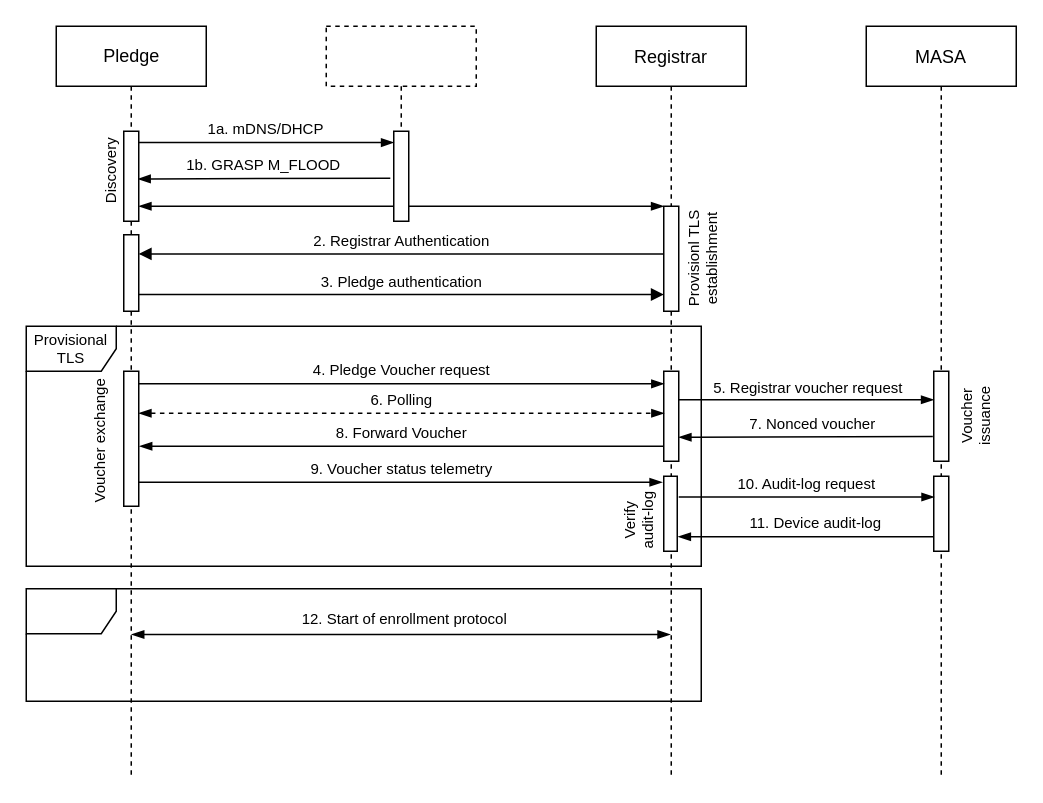
The diagram is 1043 pixels wide and 803 high, and some of its shapes have lost their labels. Here are the shapes that lost their labels. From the top down, the centre of each, then its label:
the point at 400,123: Proxy
the point at 363,644: Trusted TLS
